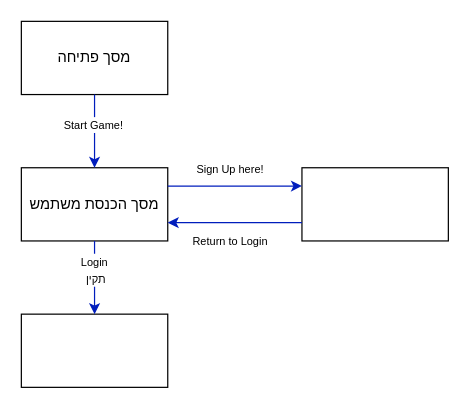
Some shapes in this 470 by 409 pixel diagram are drawn without their labels. Each missing label, with the box of its shape:
מסך המשחק הראשי: (20, 313, 168, 387)
מסך יצירת משתמש: (301, 167, 448, 241)
